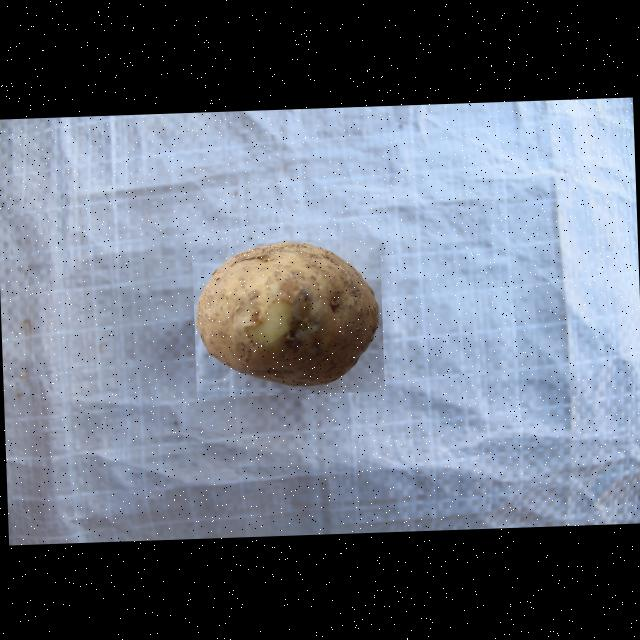Diseased-fungal potato: (190, 238, 384, 396)
